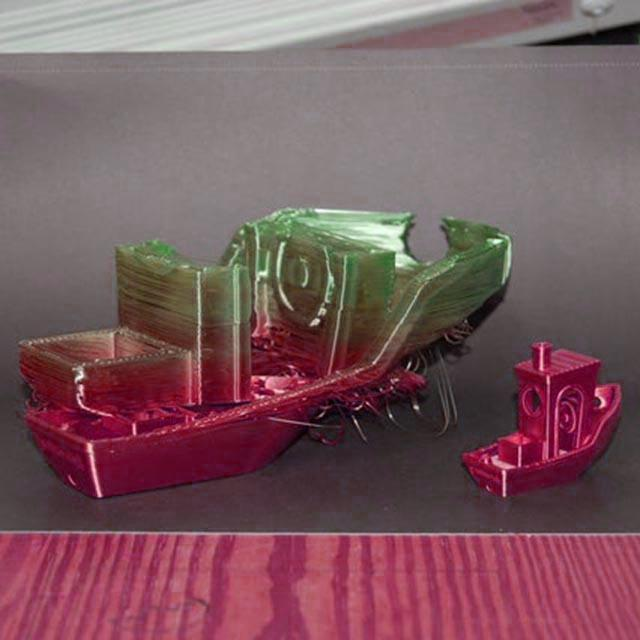Spaghetti: (300, 349, 430, 443), (432, 342, 458, 437), (250, 326, 292, 352), (442, 318, 476, 346), (22, 389, 50, 413)
